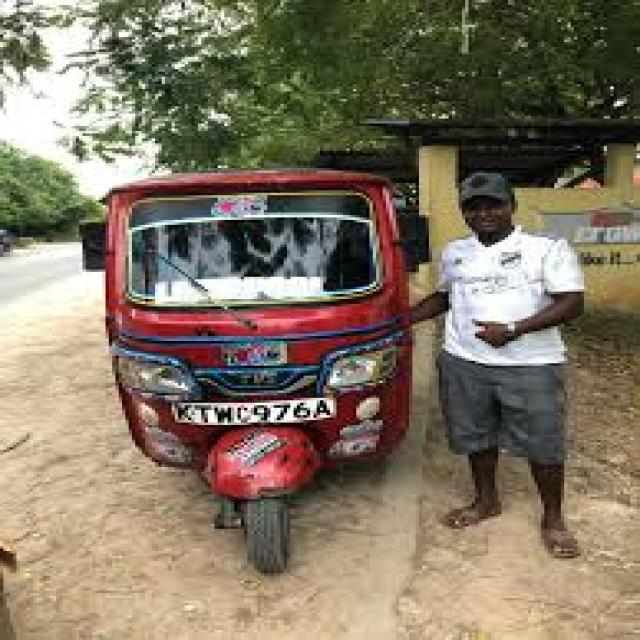tuktuk: (24, 107, 480, 605)
